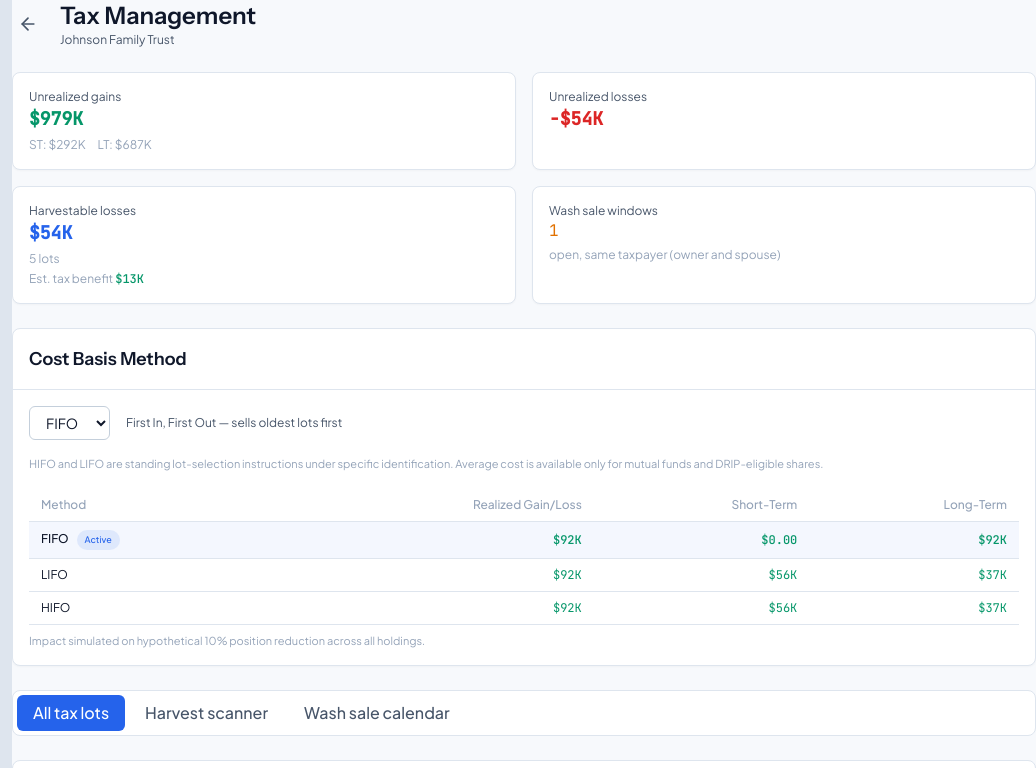
it: TaxManagementPage › the harvest gate is scoped to accounts that actually need FX (fix-round-3 review) › acc-001 (USD-native): the scanner tab lists real opportunities, not an "unavailable" message, while FX is down
Expected: the text "Johnson Family Trust" is shown, [60, 32, 175, 47]
Click the button "Harvest scanner" at [207, 713], box [129, 695, 284, 731]
(page scrolled)
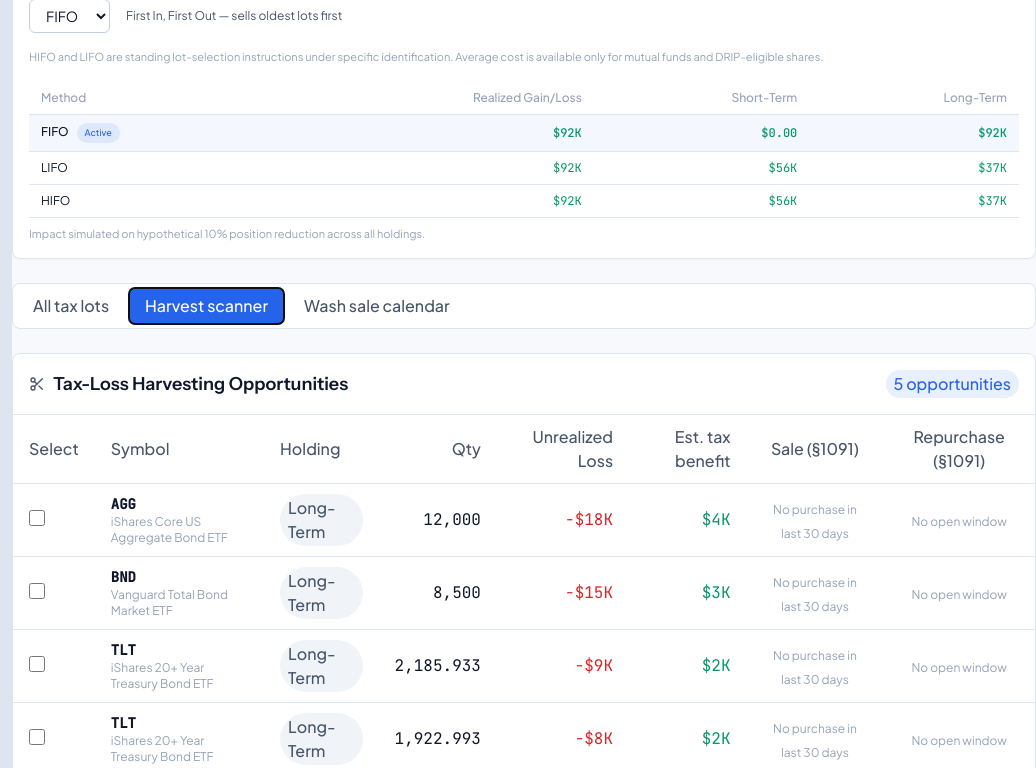
Expected: the text "5 opportunities" is shown, [886, 370, 1019, 398]
